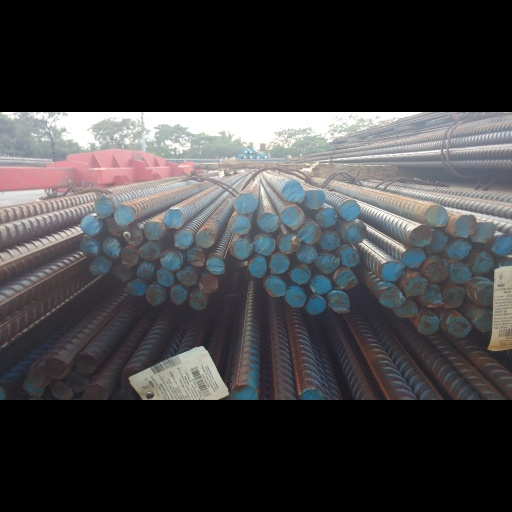dipstick: (449, 179, 478, 224), (400, 289, 429, 330), (45, 432, 71, 477), (445, 224, 474, 264), (327, 316, 353, 360), (423, 258, 450, 300), (280, 167, 305, 212), (332, 273, 359, 314), (442, 305, 467, 349), (281, 119, 305, 163), (226, 481, 260, 512), (314, 250, 341, 289), (421, 165, 448, 204), (25, 446, 50, 488), (75, 426, 101, 466), (379, 309, 407, 346), (419, 304, 443, 347), (308, 285, 333, 326), (407, 200, 433, 239), (402, 238, 427, 278), (448, 266, 474, 304), (392, 331, 421, 365), (337, 154, 361, 195), (252, 216, 277, 255), (472, 194, 497, 233), (379, 262, 403, 302), (233, 143, 258, 181), (228, 181, 253, 219), (295, 233, 320, 271), (448, 362, 473, 400), (492, 213, 512, 260), (343, 194, 367, 233), (318, 208, 342, 247), (66, 462, 90, 501), (175, 275, 200, 312), (262, 292, 287, 329), (160, 241, 182, 283), (269, 248, 291, 290), (473, 300, 493, 346), (228, 225, 252, 263), (473, 246, 495, 287), (118, 235, 141, 274), (417, 355, 440, 394), (142, 192, 166, 229), (197, 287, 221, 324), (79, 183, 103, 220), (278, 216, 302, 253), (21, 469, 45, 506), (113, 164, 136, 202), (338, 236, 361, 274), (297, 197, 321, 233), (428, 209, 447, 254), (206, 254, 229, 291), (146, 303, 166, 345), (89, 257, 113, 292), (101, 221, 122, 261), (473, 352, 493, 394), (78, 220, 100, 258), (305, 136, 326, 175), (305, 327, 328, 362), (136, 264, 156, 304), (247, 256, 267, 296), (49, 478, 74, 510), (257, 175, 278, 213), (288, 271, 312, 304), (285, 315, 308, 349), (155, 275, 176, 312), (124, 200, 145, 237), (315, 170, 337, 205), (93, 149, 113, 186), (196, 204, 216, 241), (188, 318, 208, 355), (84, 484, 110, 512), (174, 208, 194, 244), (139, 230, 161, 262), (164, 171, 183, 208), (169, 306, 188, 343), (300, 485, 326, 512), (125, 296, 146, 328), (105, 186, 124, 221), (113, 270, 134, 301), (187, 239, 205, 275)
